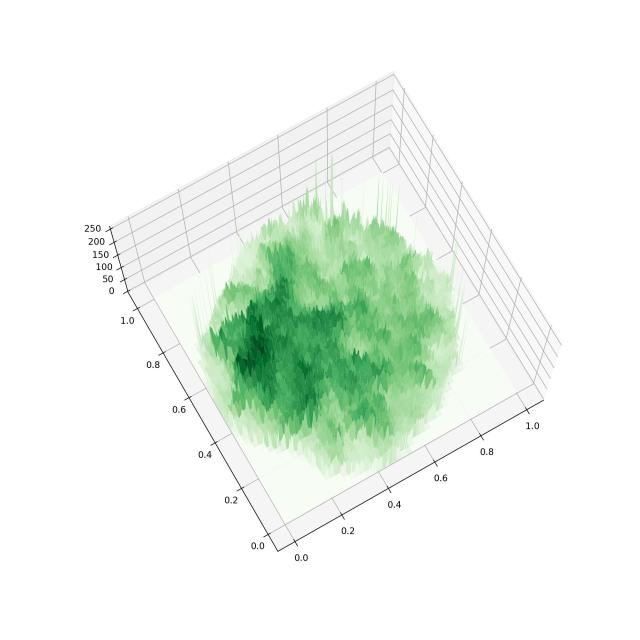fir: (63, 43, 596, 583)
